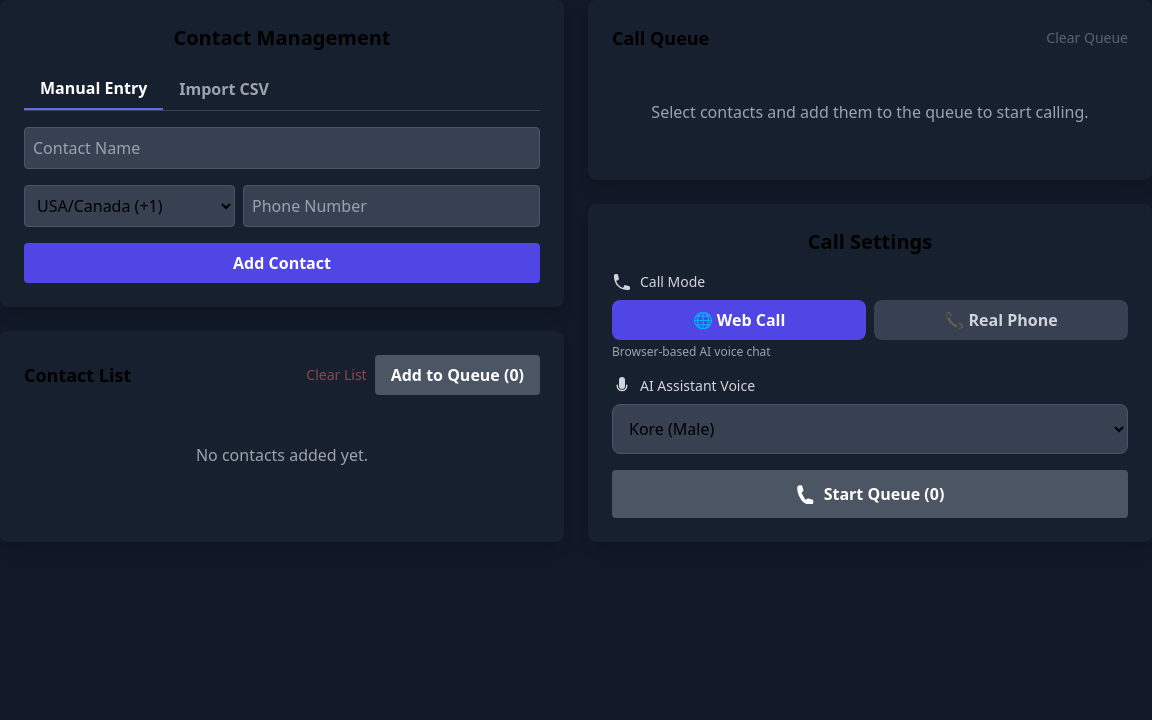
Test: LiveCall Component › allows adding a contact to the queue
# Add a contact first
Type "Jane Doe" into the field with placeholder "Contact Name" at (282, 148), box left=24, top=127, right=540, bottom=169
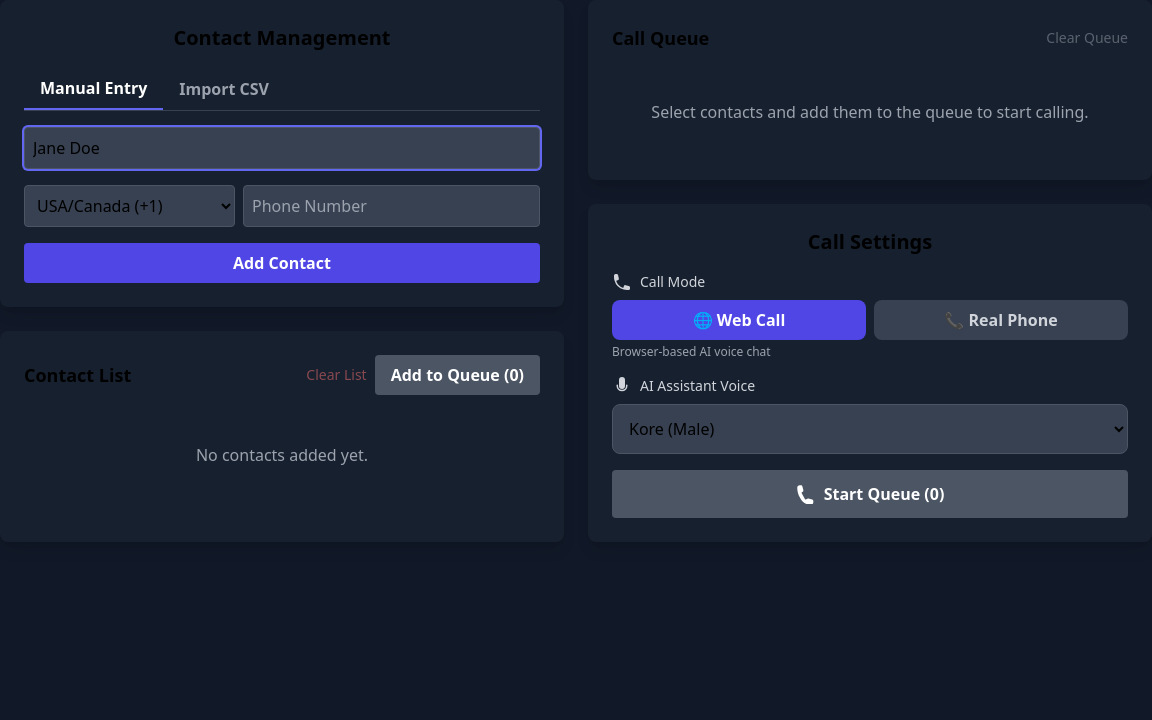
Type "9876543210" into the field with placeholder "Phone Number" at (392, 206), box left=243, top=185, right=540, bottom=227
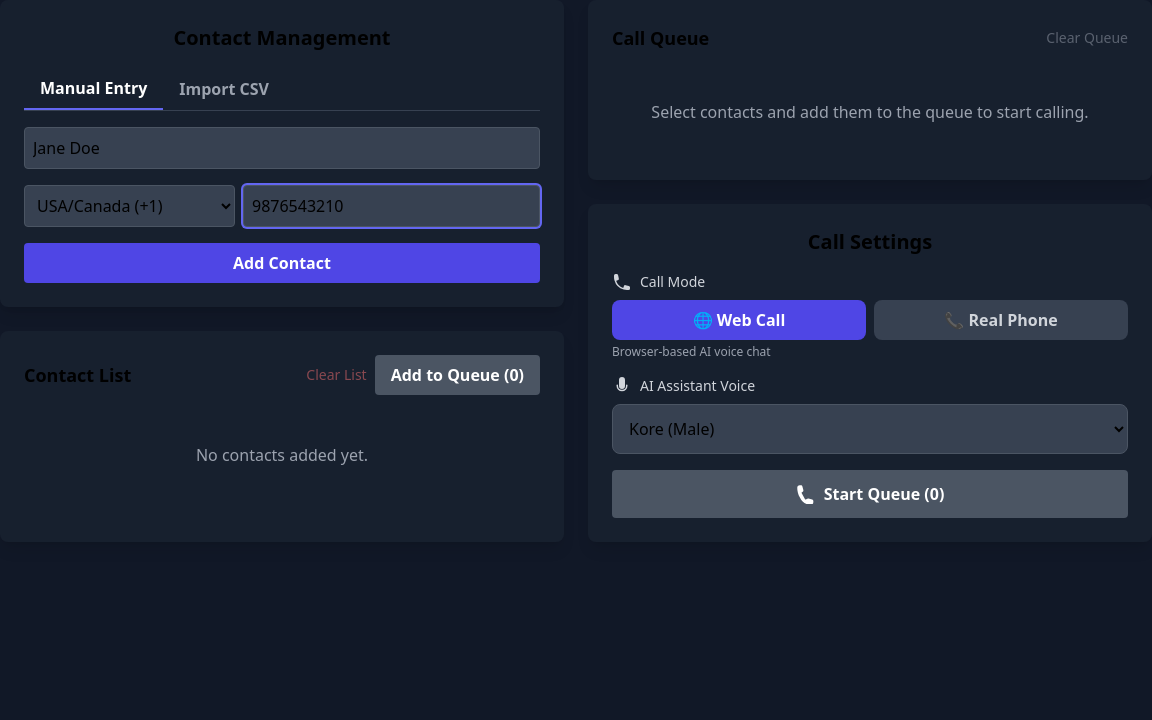
Click the button "Add Contact" at (282, 263), box left=24, top=243, right=540, bottom=283
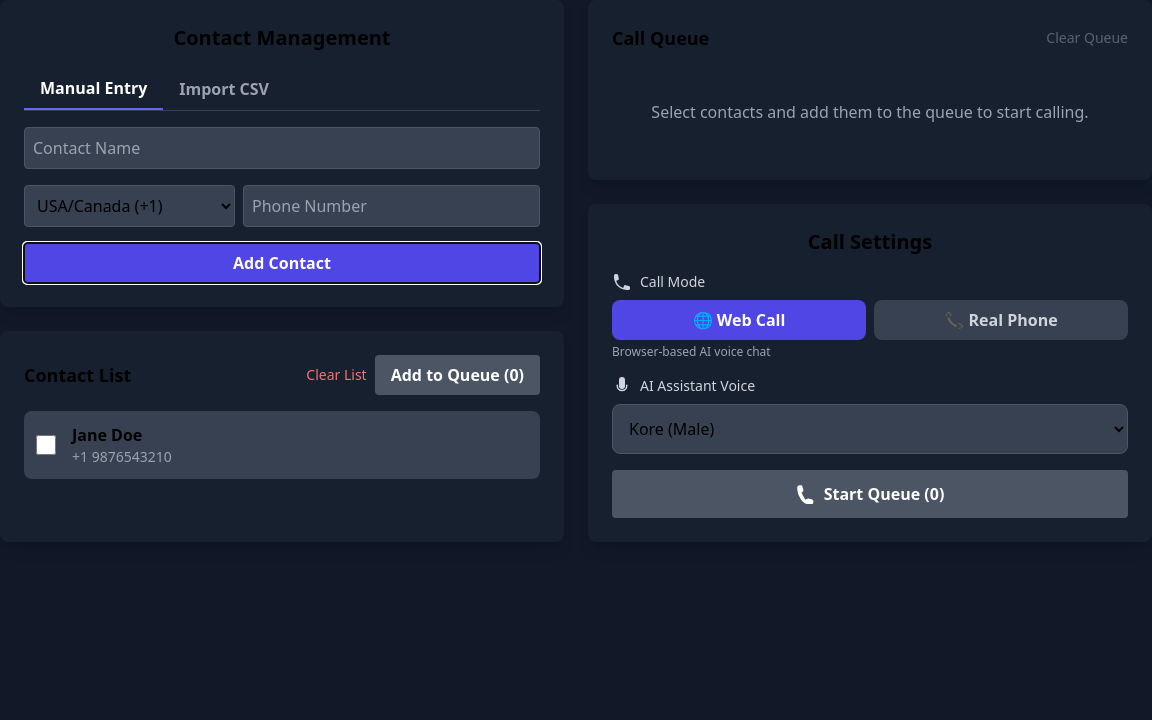
# Select the contact
Click the checkbox at (46, 445), box left=36, top=435, right=56, bottom=455
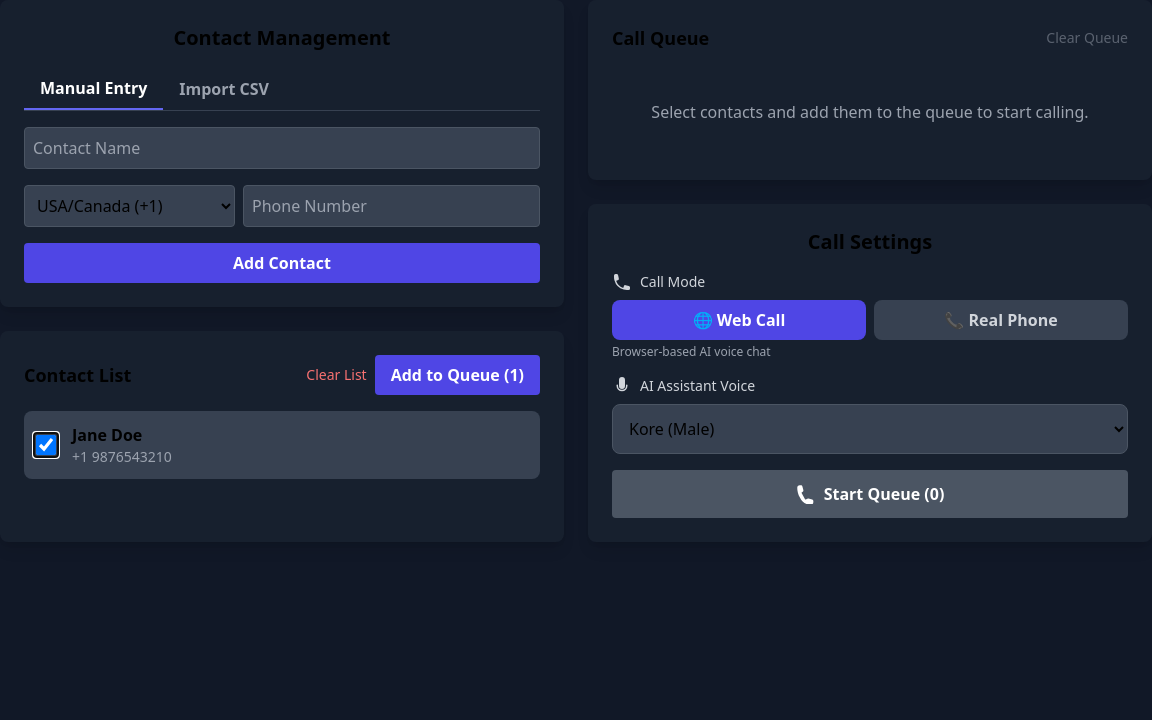
# Add to queue
Click the button "Add to Queue (1)" at (457, 375), box left=375, top=355, right=540, bottom=395
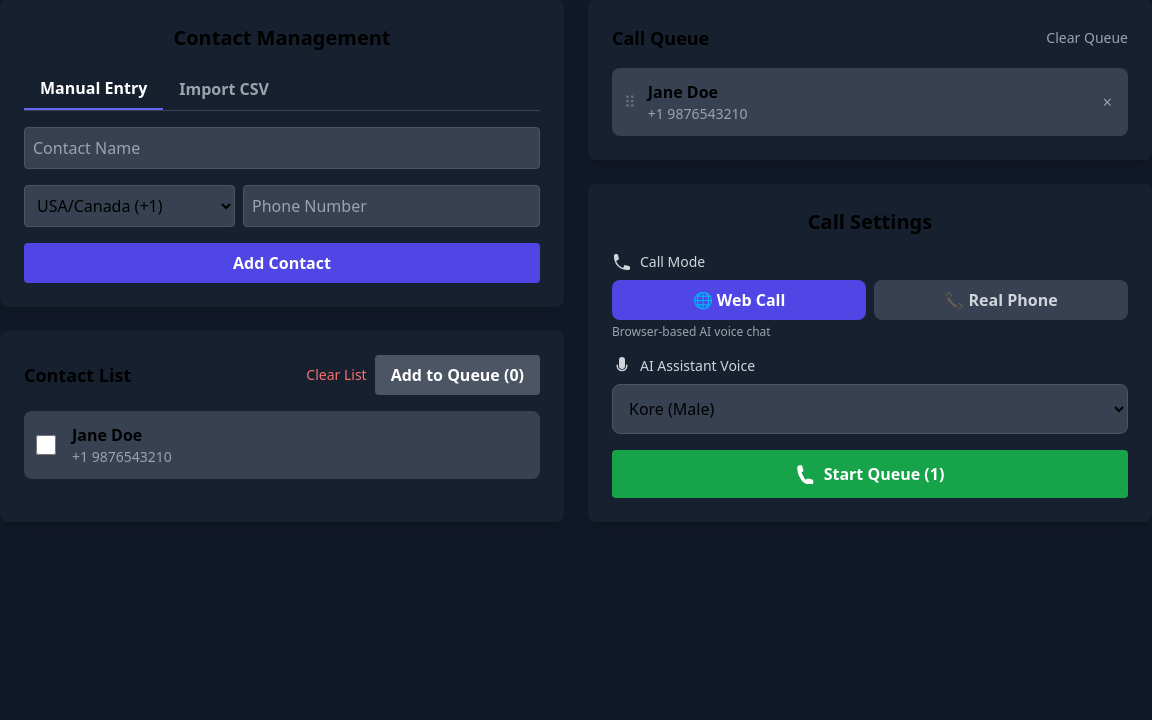
Expected: the button "Clear Queue" is enabled, left=1046, top=28, right=1128, bottom=48
